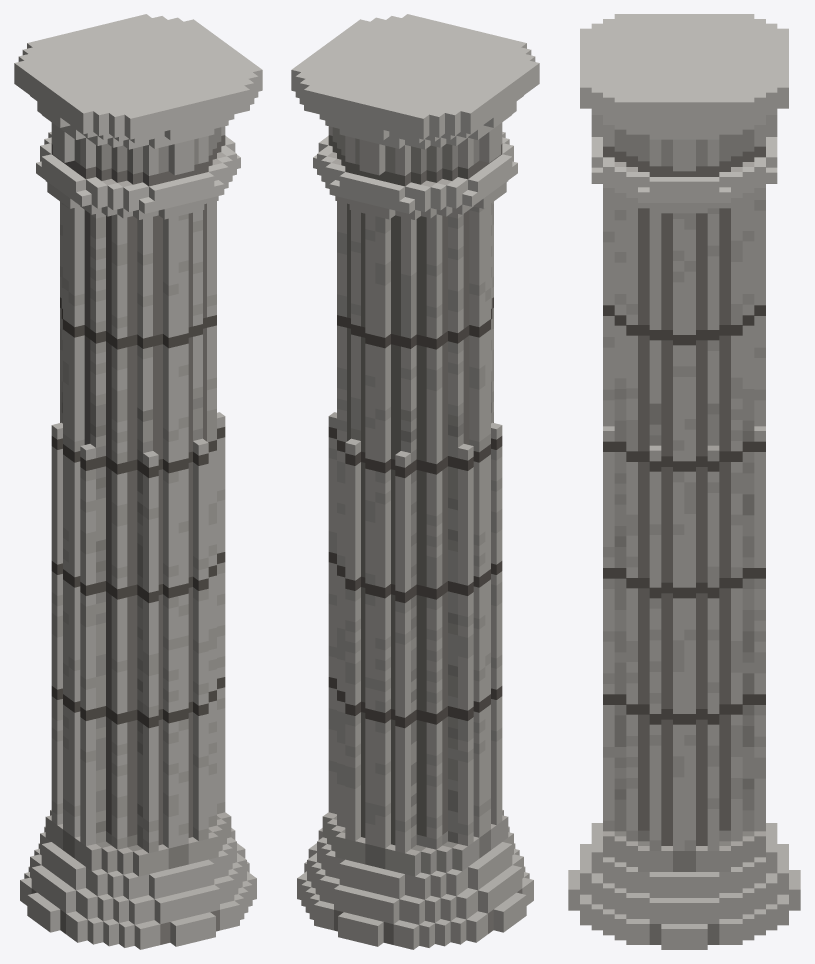
The model's file is stone_pillar_normal.obj.
The picture shows the model from 3 angles, left to right: view 1: azimuth 30°, elevation 25°; view 2: azimuth 150°, elevation 25°; view 3: azimuth 270°, elevation 25°; orthographic projection.
Bounding box in the file's own units: 2 × 8 × 2.
Materials: 1 (1 with a texture image).
